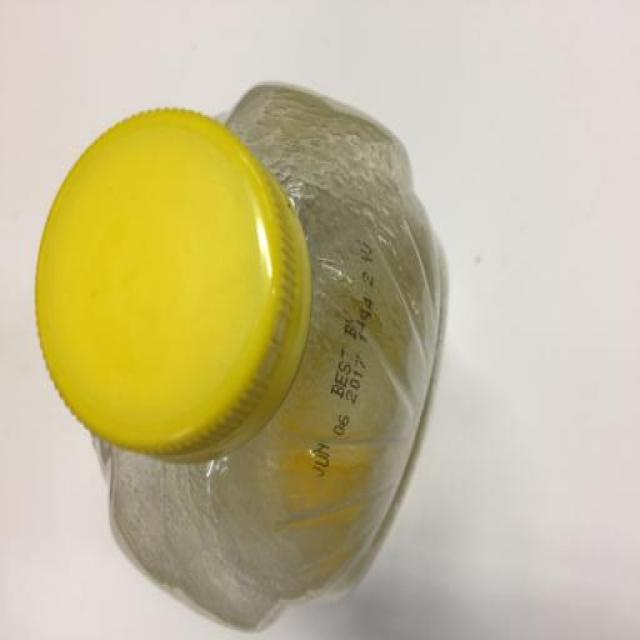plastic_bottle: (37, 66, 506, 640)
